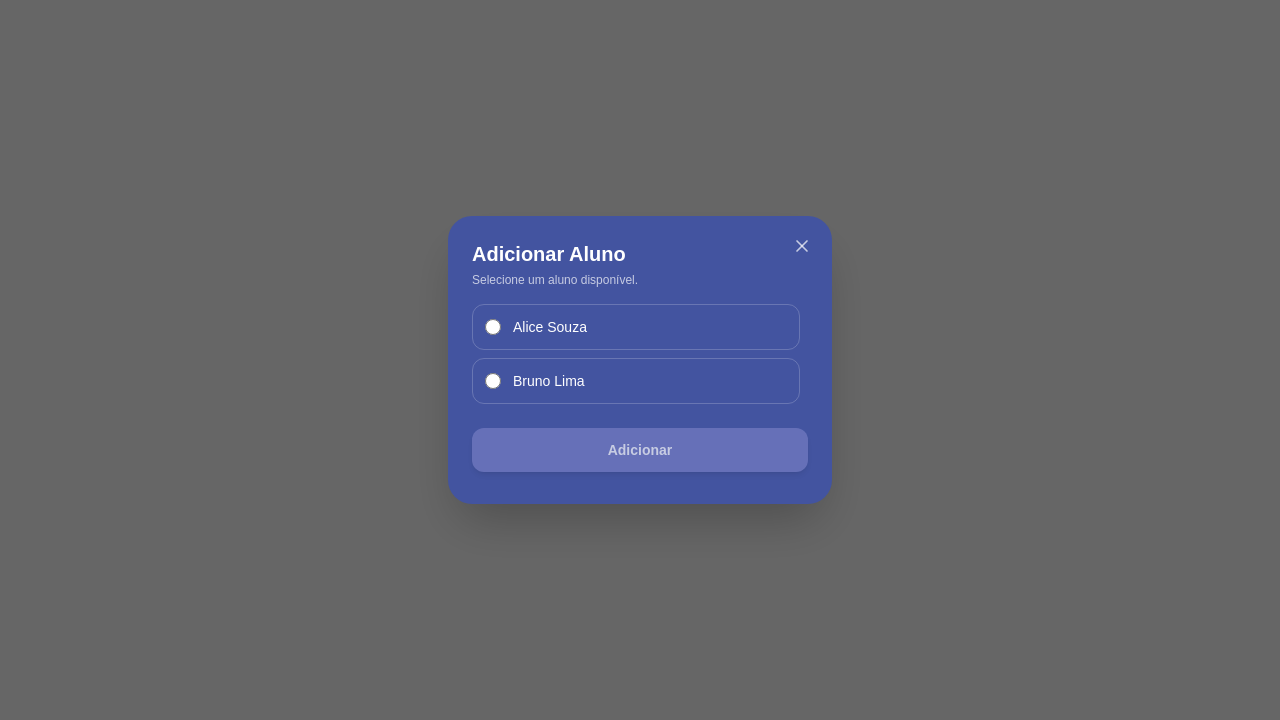
it: [US06] AddMemberModal › [QA] should show an alert and stay open when the addition is refused
Step 1. Click the radio button labelled "Bruno Lima" → (493, 381), box [485, 373, 501, 389]
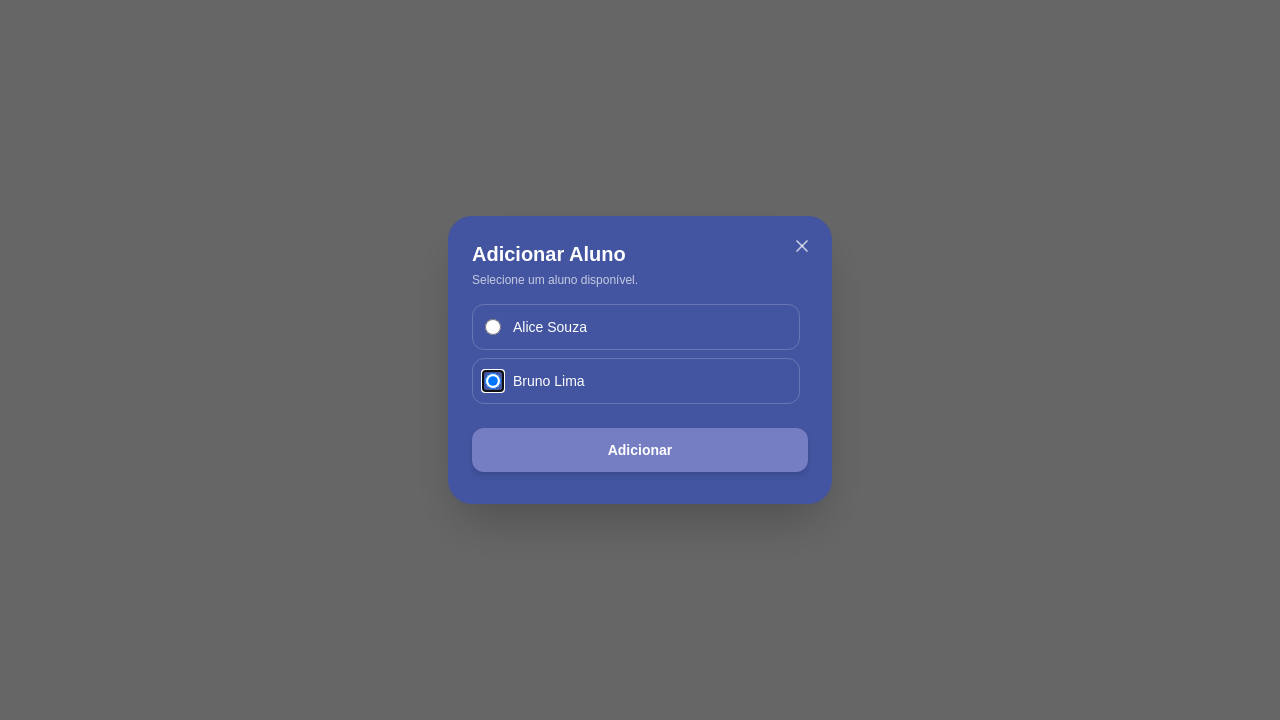
Step 2. Click the button "Adicionar" → (640, 450), box [472, 428, 808, 472]
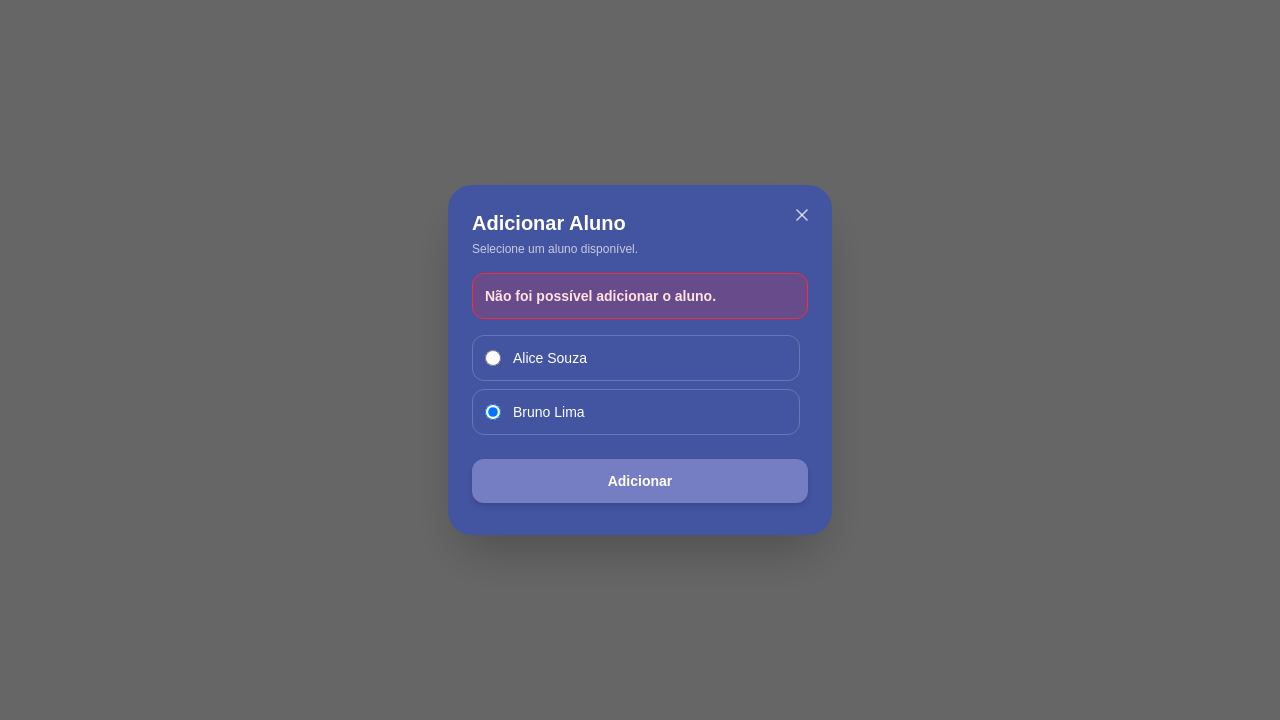
Expected: the message shows "Não foi possível adicionar o aluno", [485, 288, 716, 304]
